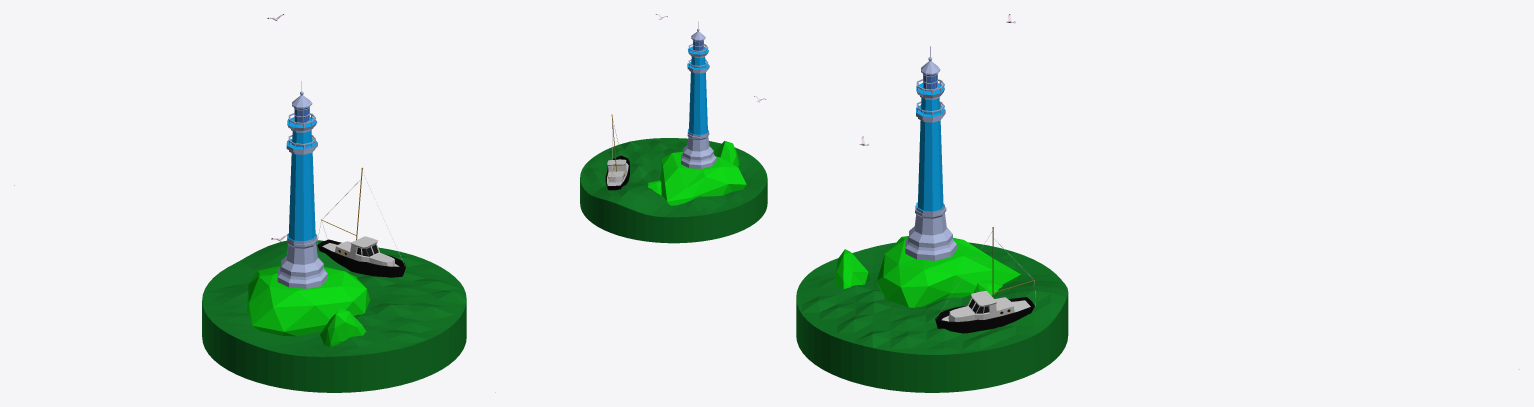
The model's file is lighthouse1.obj.
3 views of the same model, side by side, from view 1: azimuth 30°, elevation 25°; view 2: azimuth 150°, elevation 25°; view 3: azimuth 270°, elevation 25° (orthographic). The views are drawn at different scales.
Visible parts, largest first — view 1: Cube.004_Cube, Icosphere.001, Circle, Circle.001, Cube.009, Icosphere.003, Cube.008; view 2: Cube.004_Cube, Icosphere.001, Circle, Circle.001, Cube.008, Icosphere.003, Cube.009; view 3: Cube.004_Cube, Icosphere.001, Circle, Circle.001, Cube.009, Cube.008, Icosphere.003.
Boxes of the visible parts, left/top/right/bottom form: Cube.004_Cube: left=202, top=240, right=466, bottom=392; Icosphere.001: left=247, top=266, right=370, bottom=336; Circle: left=286, top=117, right=317, bottom=241; Circle.001: left=277, top=235, right=327, bottom=288; Cube.009: left=317, top=239, right=405, bottom=277; Icosphere.003: left=320, top=308, right=366, bottom=346; Cube.008: left=335, top=236, right=395, bottom=266; Cube.004_Cube: left=580, top=138, right=767, bottom=243; Icosphere.001: left=659, top=151, right=746, bottom=205; Circle: left=687, top=46, right=709, bottom=134; Circle.001: left=681, top=131, right=716, bottom=168; Cube.008: left=607, top=159, right=626, bottom=182; Icosphere.003: left=713, top=141, right=739, bottom=166; Cube.009: left=605, top=155, right=629, bottom=190; Cube.004_Cube: left=796, top=242, right=1068, bottom=392; Icosphere.001: left=877, top=236, right=1020, bottom=307; Circle: left=916, top=83, right=945, bottom=211; Circle.001: left=905, top=205, right=956, bottom=260; Cube.009: left=935, top=297, right=1034, bottom=333; Cube.008: left=948, top=290, right=1014, bottom=321; Icosphere.003: left=836, top=249, right=870, bottom=288.
Bounding box in the file's own units: 3.19 × 4.63 × 8.48.
